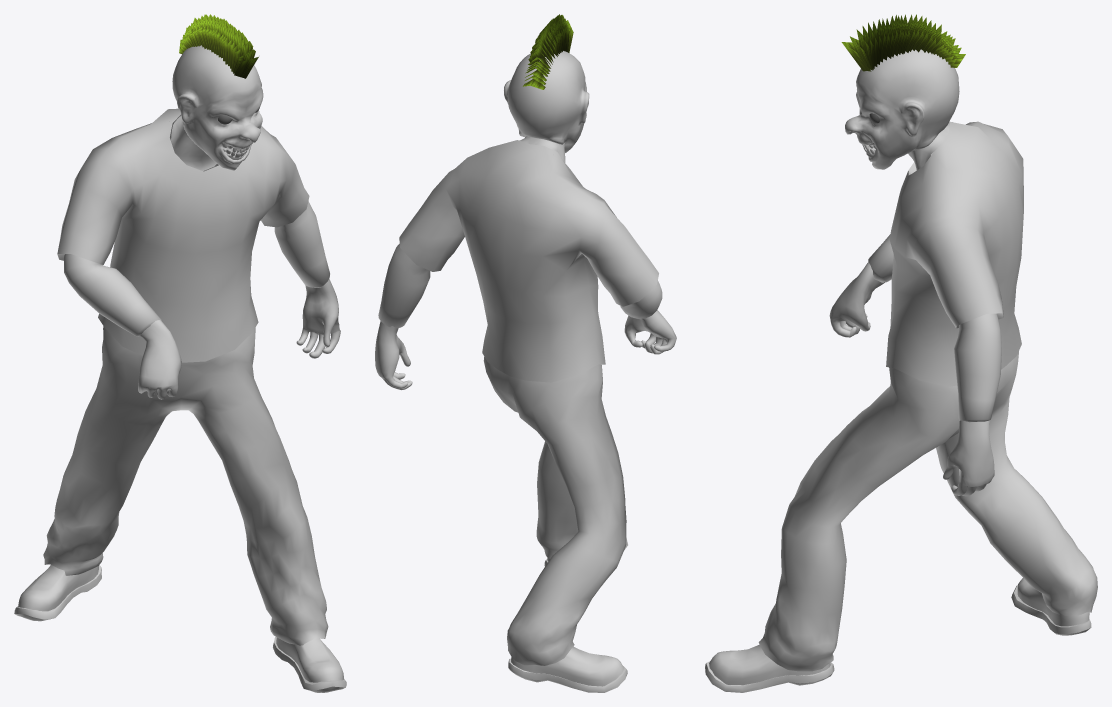
The model's file is Attack01 (49).obj.
3 renders of one model, left to right at view 1: azimuth 30°, elevation 25°; view 2: azimuth 150°, elevation 25°; view 3: azimuth 270°, elevation 25°, orthographic. The views are drawn at different scales.
Visible parts, largest first — view 1: shirt, pants, head, forearm_band_01, boots, forearm_band_002, Hair, hand_right, boots001, hand_left, neck; view 2: shirt, pants, head, boots, forearm_band_002, Hair, hand_left, hand_right, forearm_band_01; view 3: pants, shirt, head, forearm_band_002, Hair, boots001, hand_left, hand_right, boots, forearm_band_01.
Part boxes in pixels (box(x1,y1,x2,y2)): shirt: box(57, 108, 309, 362); pants: box(43, 326, 328, 645); head: box(172, 45, 263, 170); forearm_band_01: box(64, 254, 162, 336); boots: box(14, 565, 101, 621); forearm_band_002: box(274, 201, 329, 287); Hair: box(179, 14, 258, 78); hand_right: box(138, 320, 181, 399); boots001: box(273, 636, 346, 692); hand_left: box(296, 278, 340, 358); neck: box(169, 116, 216, 170); shirt: box(399, 140, 658, 382); pants: box(483, 357, 626, 665); head: box(504, 51, 589, 152); boots: box(508, 646, 627, 692); forearm_band_002: box(378, 244, 430, 328); Hair: box(523, 14, 573, 89); hand_left: box(375, 321, 412, 390); hand_right: box(624, 310, 676, 354); forearm_band_01: box(620, 280, 662, 318); pants: box(758, 351, 1097, 671); shirt: box(886, 121, 1023, 386); head: box(845, 49, 959, 169); forearm_band_002: box(954, 313, 1001, 422); Hair: box(841, 14, 965, 71); boots001: box(705, 644, 834, 692); hand_left: box(943, 420, 994, 496); hand_right: box(829, 262, 884, 337); boots: box(1011, 578, 1091, 635); forearm_band_01: box(868, 234, 893, 282).
Size of the model in its own units: 89.05 by 182 by 98.39.
